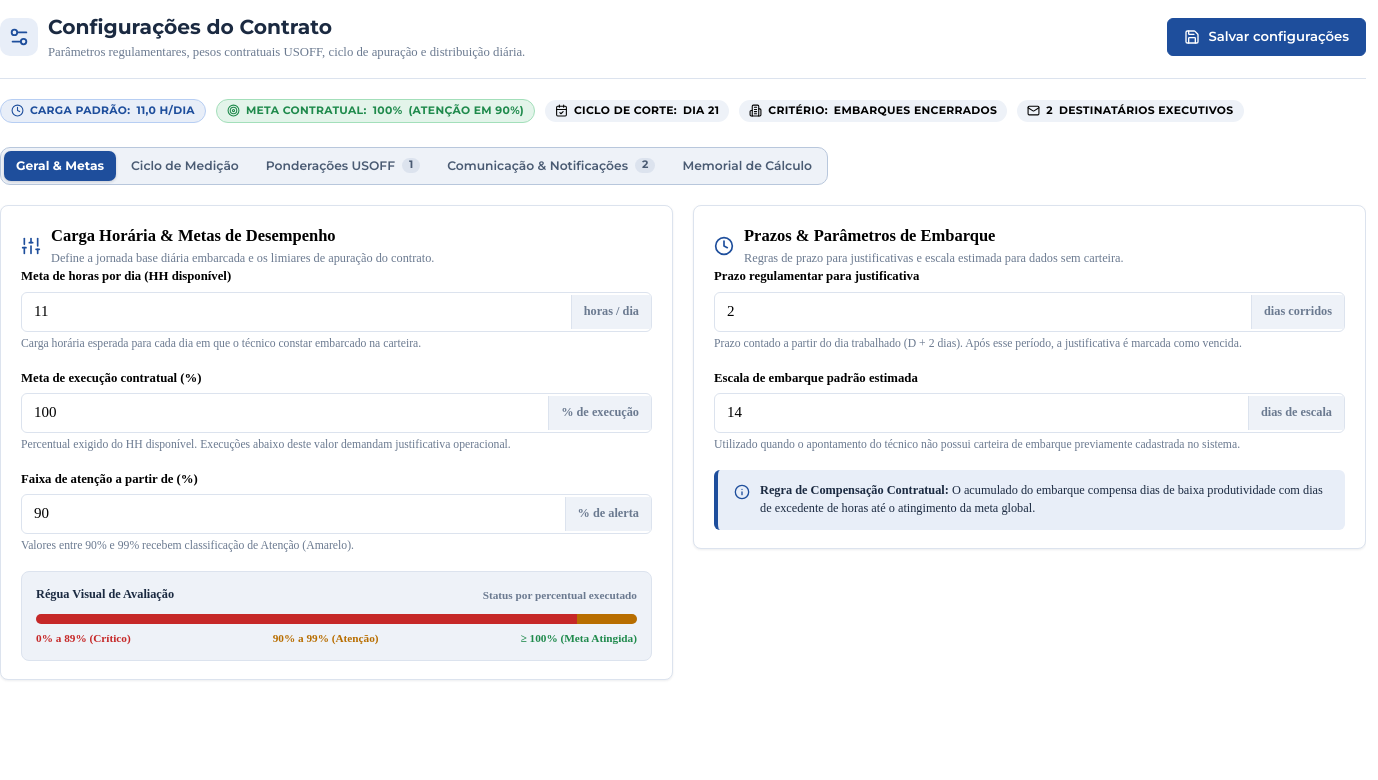
it: ConfiguracoesView (Central de Parametrização Contratual) › 8. Permite descartar alterações restaurando valores iniciais
Note: Altera valor de meta
Replace the text in the number field next to "% de execução" with "85" at (285, 413), box [22, 394, 548, 432]
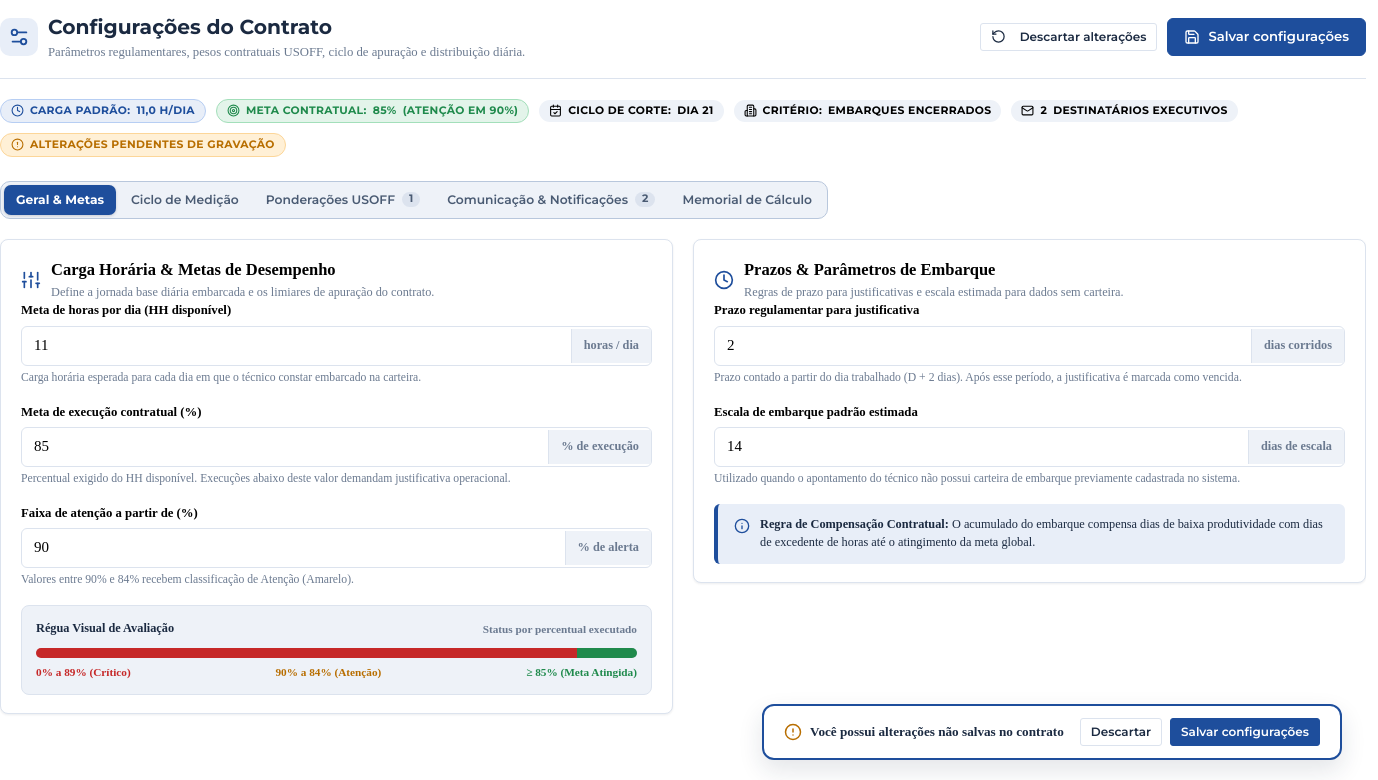
Expected: the text "Você possui alterações não salvas no contrato" is shown, [810, 722, 1064, 742]
Note: Clica em descartar
Click the button titled "Desfazer alterações e restaurar valores originais".
click(1069, 37)  # box [980, 23, 1157, 51]
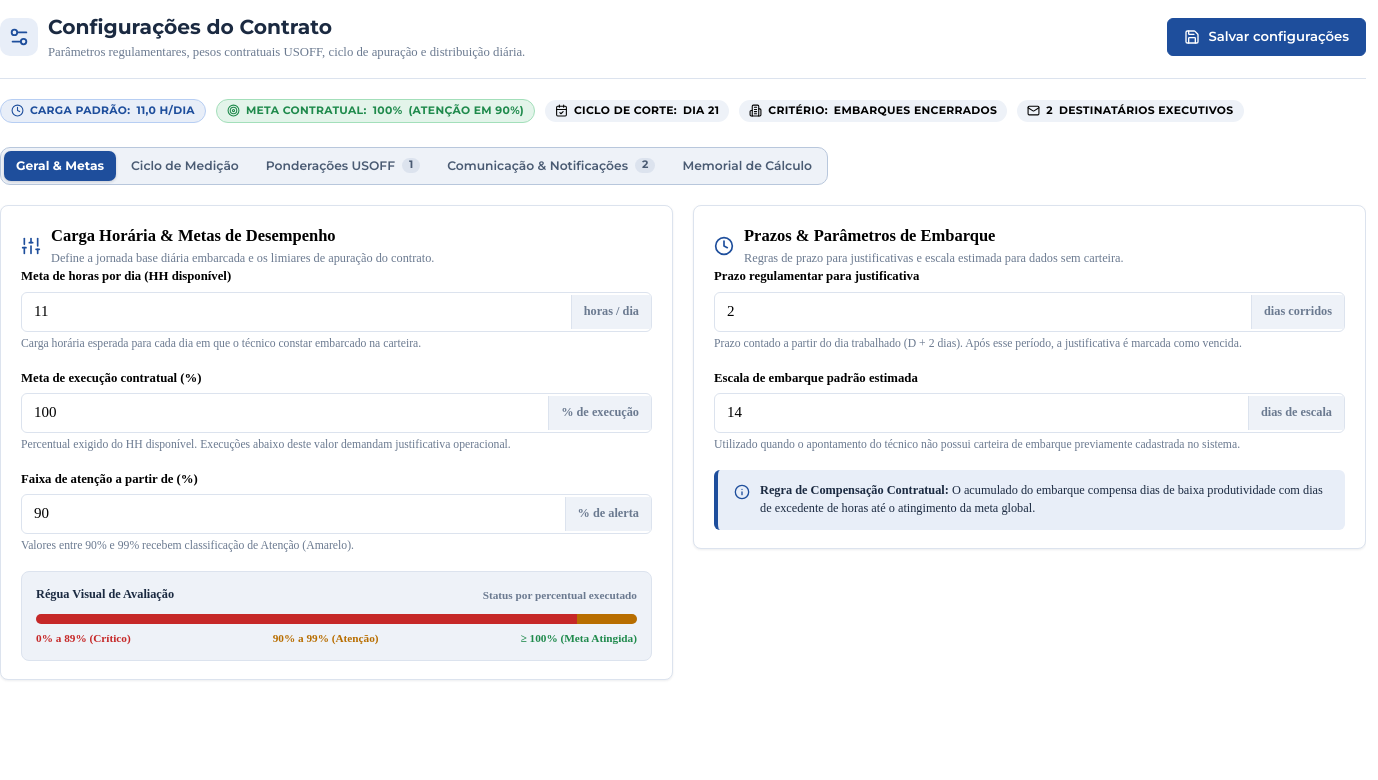
Expected: the text "Você possui alterações não salvas no contrato" is gone
